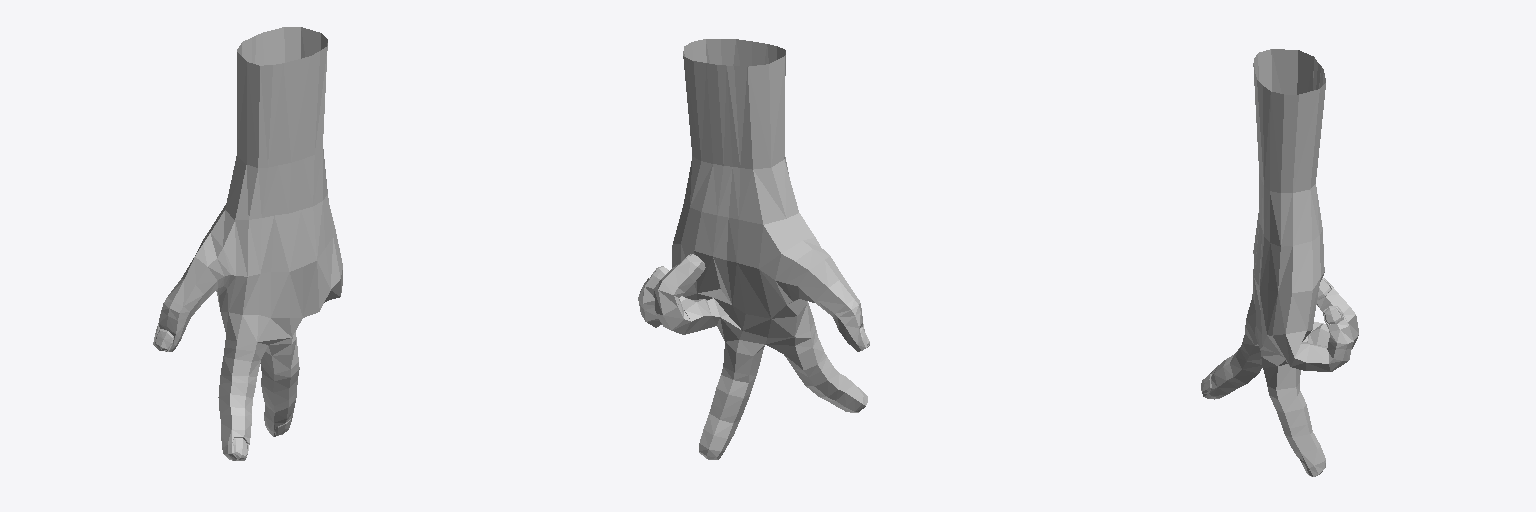
The model's file is handAnimated4_000040.obj.
The picture shows the model from 3 angles: view 1: azimuth 30°, elevation 25°; view 2: azimuth 150°, elevation 25°; view 3: azimuth 270°, elevation 25°; orthographic projection.
Visible parts, largest first — view 1: Cube.000_Cube.017_Detached_Detached; view 2: Cube.000_Cube.017_Detached_Detached; view 3: Cube.000_Cube.017_Detached_Detached.
Boxes of the visible parts, box(x1,y1,x2,y2) form: Cube.000_Cube.017_Detached_Detached: box(153, 27, 342, 460); Cube.000_Cube.017_Detached_Detached: box(638, 39, 869, 459); Cube.000_Cube.017_Detached_Detached: box(1201, 49, 1358, 476).
Bounding box in the file's own units: 0.69 × 1.32 × 0.4728.